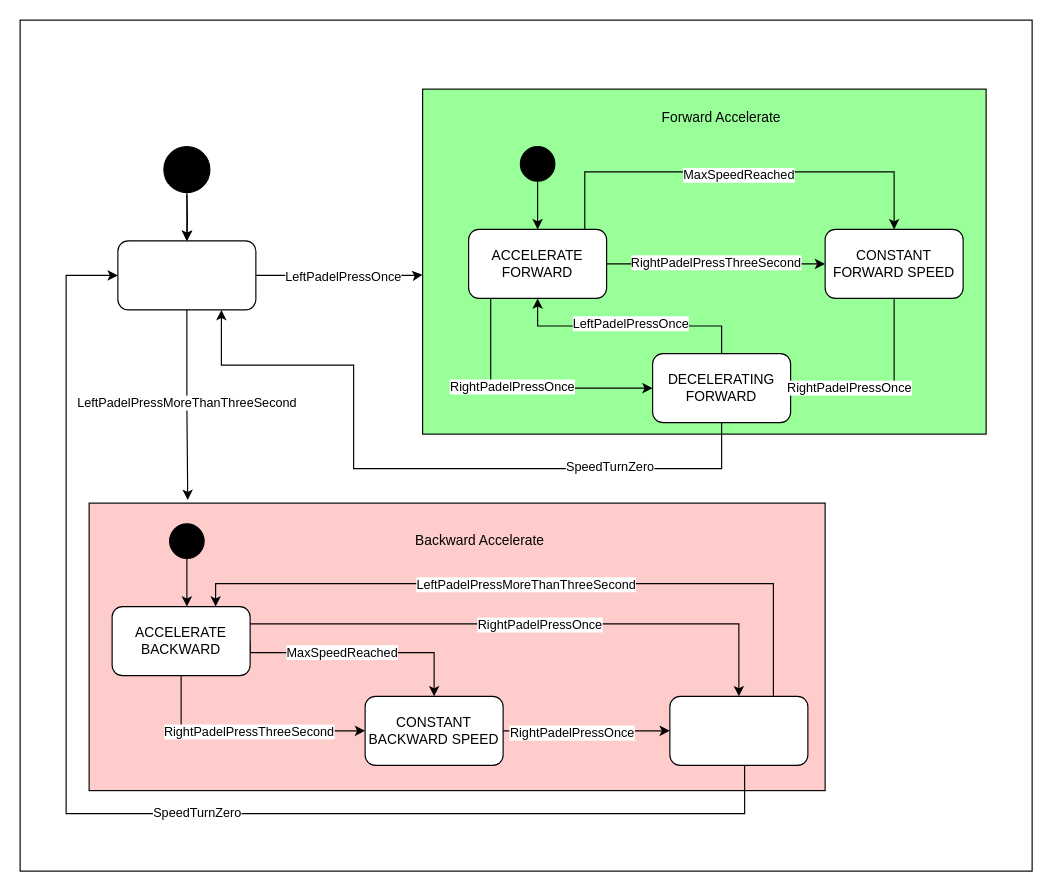
This 1052x891 diagram has some shape labels left out. The box of each missing label's shape, as (x1, y1, x2, y2) in pixels:
DECELERATING BACKWARD: (669, 695, 808, 765)
IDLE: (117, 240, 256, 310)
